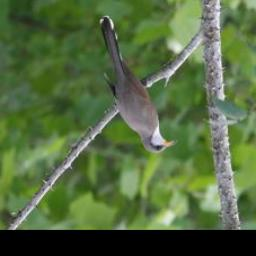Cuckoo: (98, 14, 178, 156)
